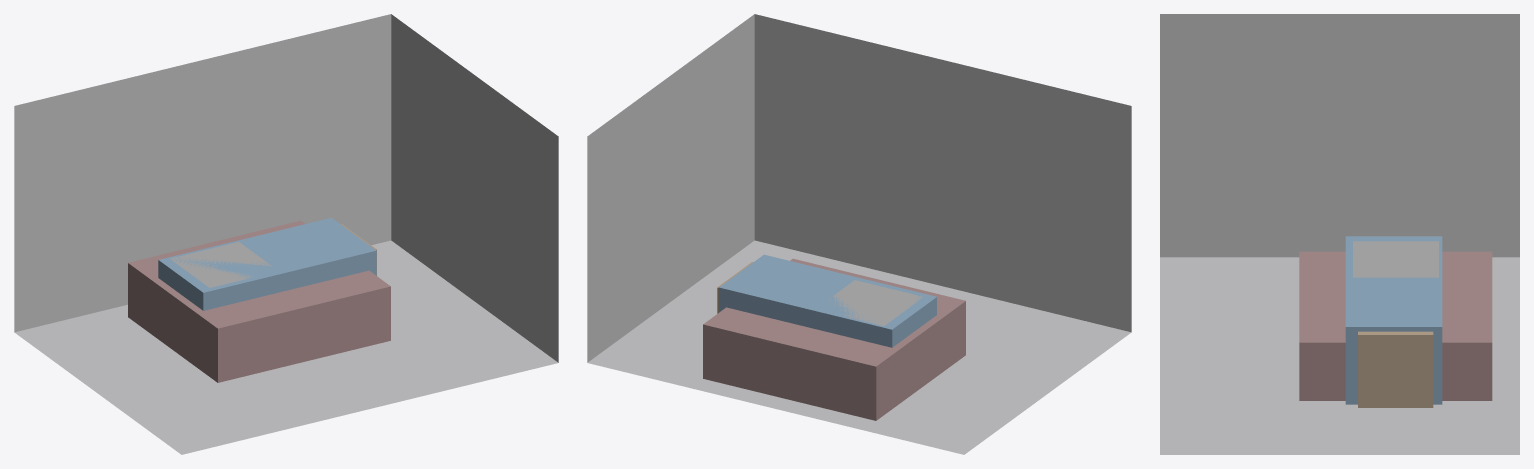
Rendered from current_layout.glb.
3 renders of one model, left to right at view 1: azimuth 30°, elevation 25°; view 2: azimuth 150°, elevation 25°; view 3: azimuth 270°, elevation 25°, orthographic. The views are drawn at different scales.
Parts seen in each view (by area): view 1: room, bed, sofa, dustbin; view 2: room, bed, sofa, dustbin; view 3: room, bed, sofa, desk, dustbin.
Boxes of the visible parts, x1,y1,x2,y2 form: room: (14,14,558,454); bed: (128,220,390,382); sofa: (158,218,376,310); dustbin: (170,242,271,287); room: (587,14,1131,454); bed: (703,258,965,420); sofa: (719,254,936,347); dustbin: (829,280,922,325); room: (1160,14,1519,454); bed: (1299,251,1492,400); sofa: (1345,236,1442,404); desk: (1358,331,1433,407); dustbin: (1353,241,1438,277).
Size of the model in its own units: 4.36 by 2.5 by 3.35.
